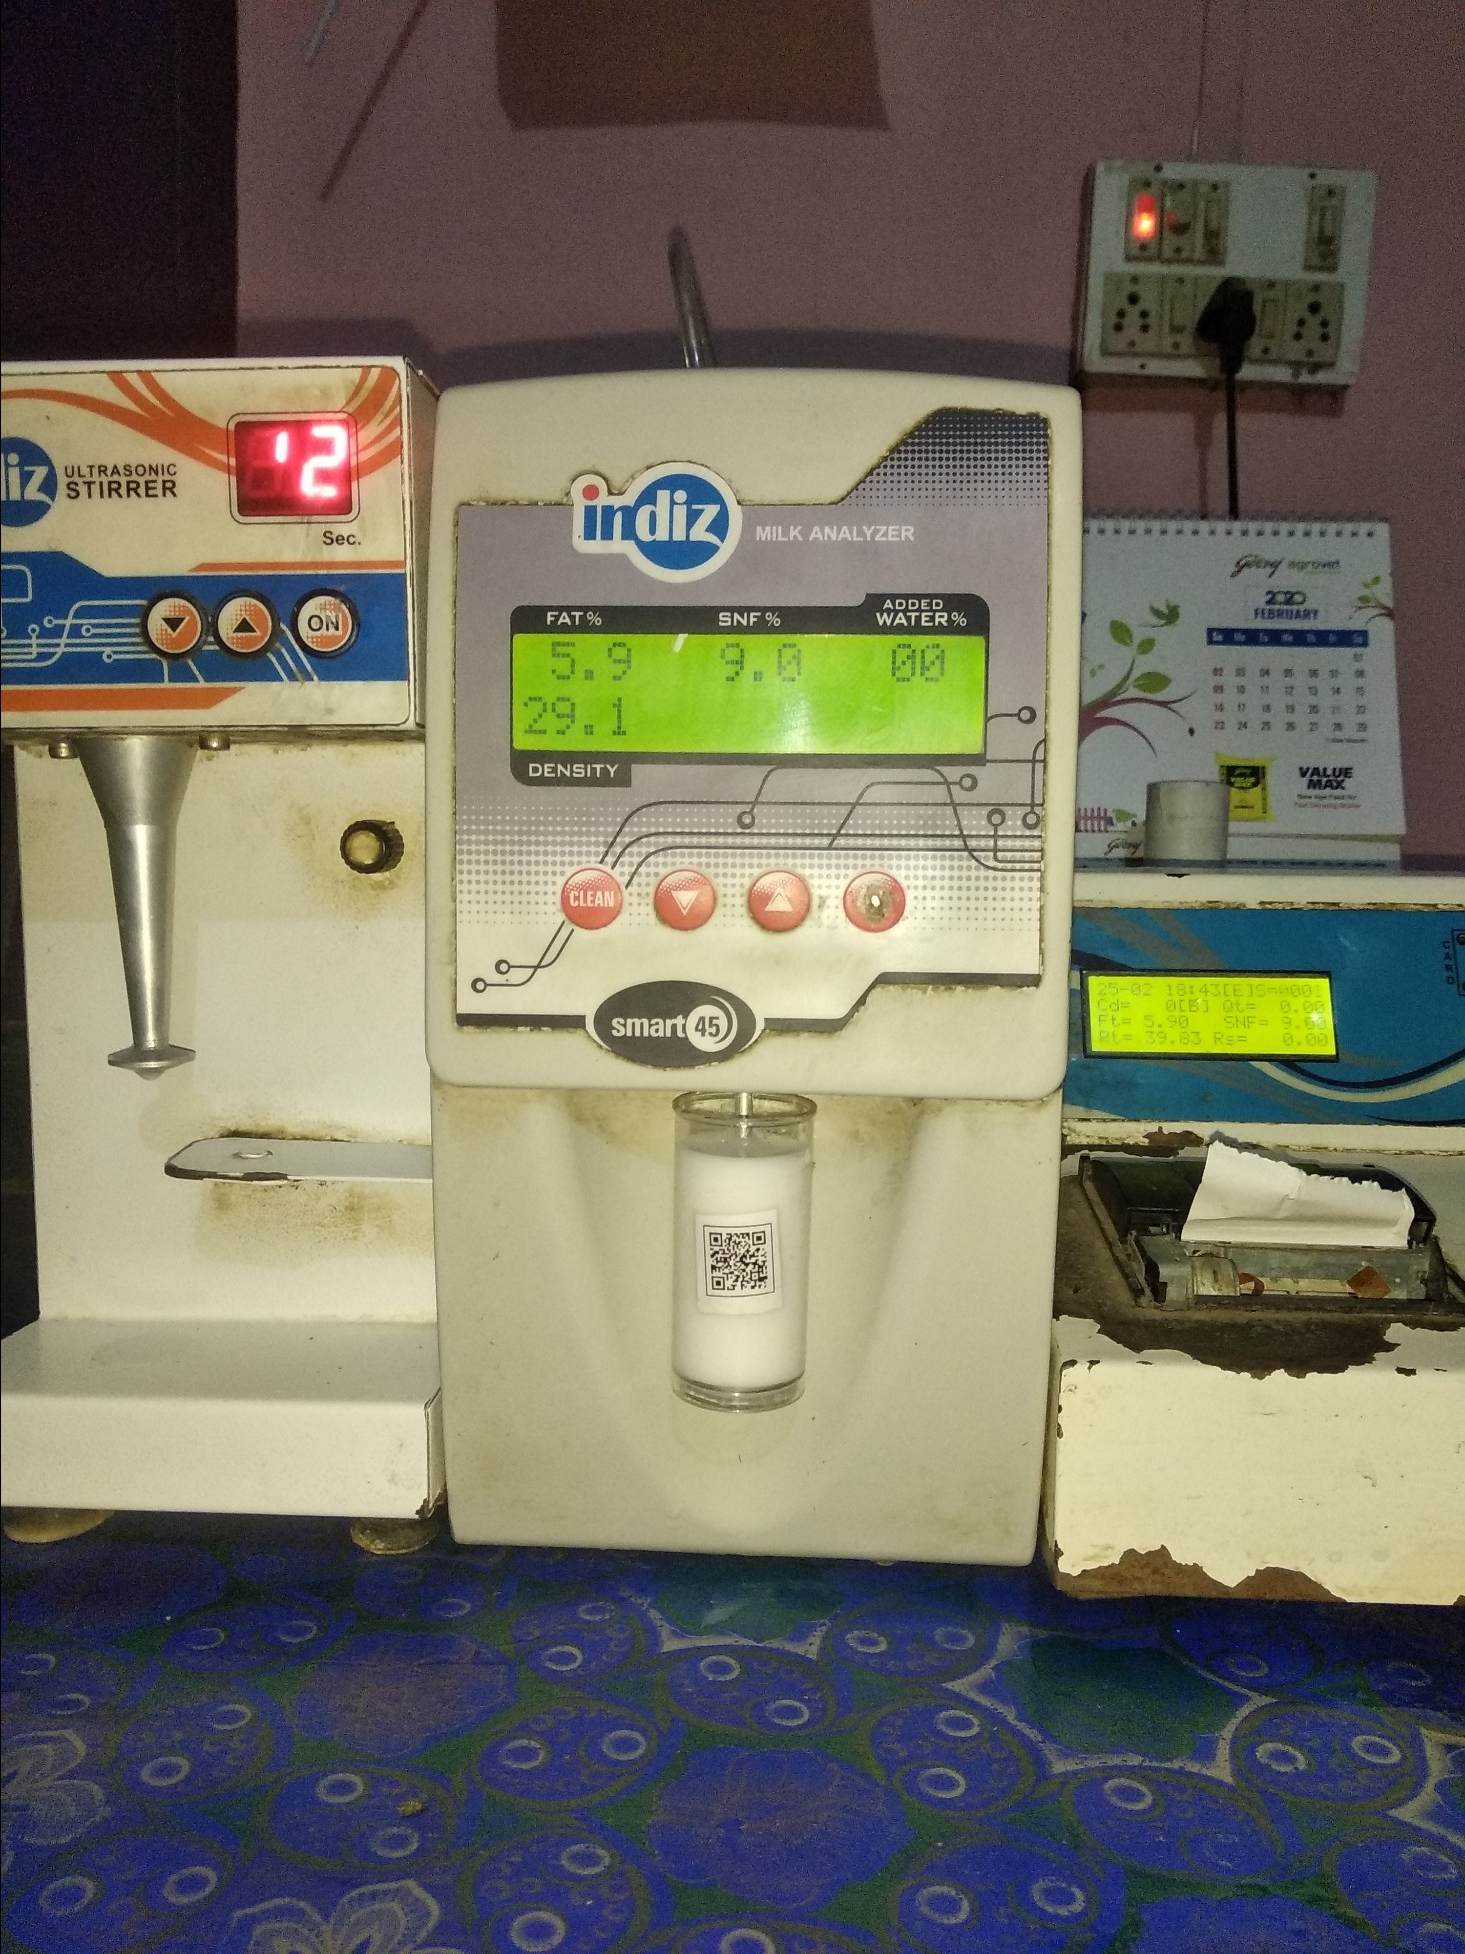lcd: (503, 622, 991, 782)
qr: (691, 1222, 785, 1319)
